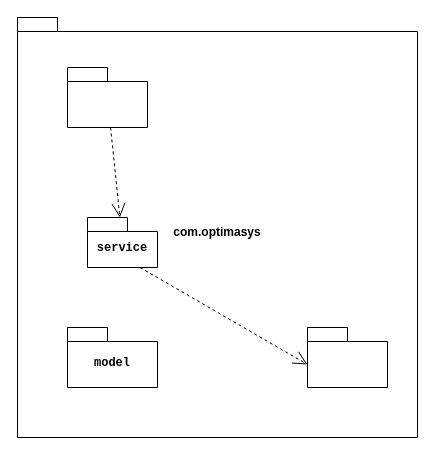
This 435x455 diagram has some shape labels left out. Here are the shapes that lost their labels. From the top down, the centre of each, then its label:
At (x=107, y=97): "controller".
At (x=347, y=357): "repository".
